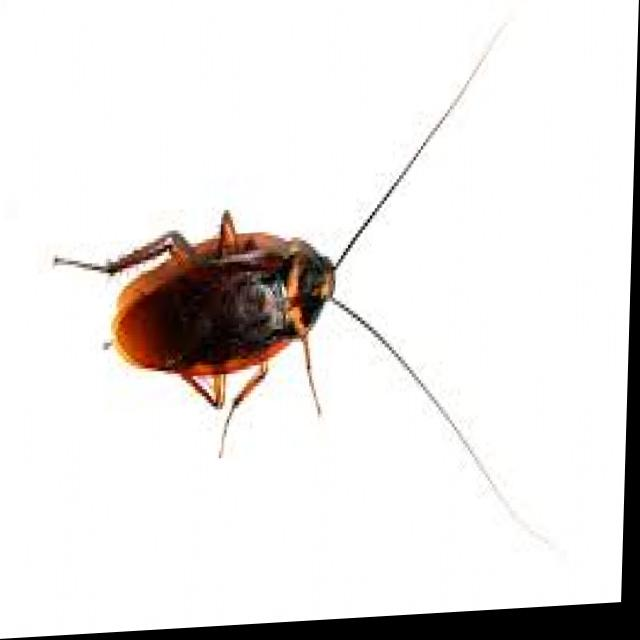Cockroach: (44, 26, 569, 592)
